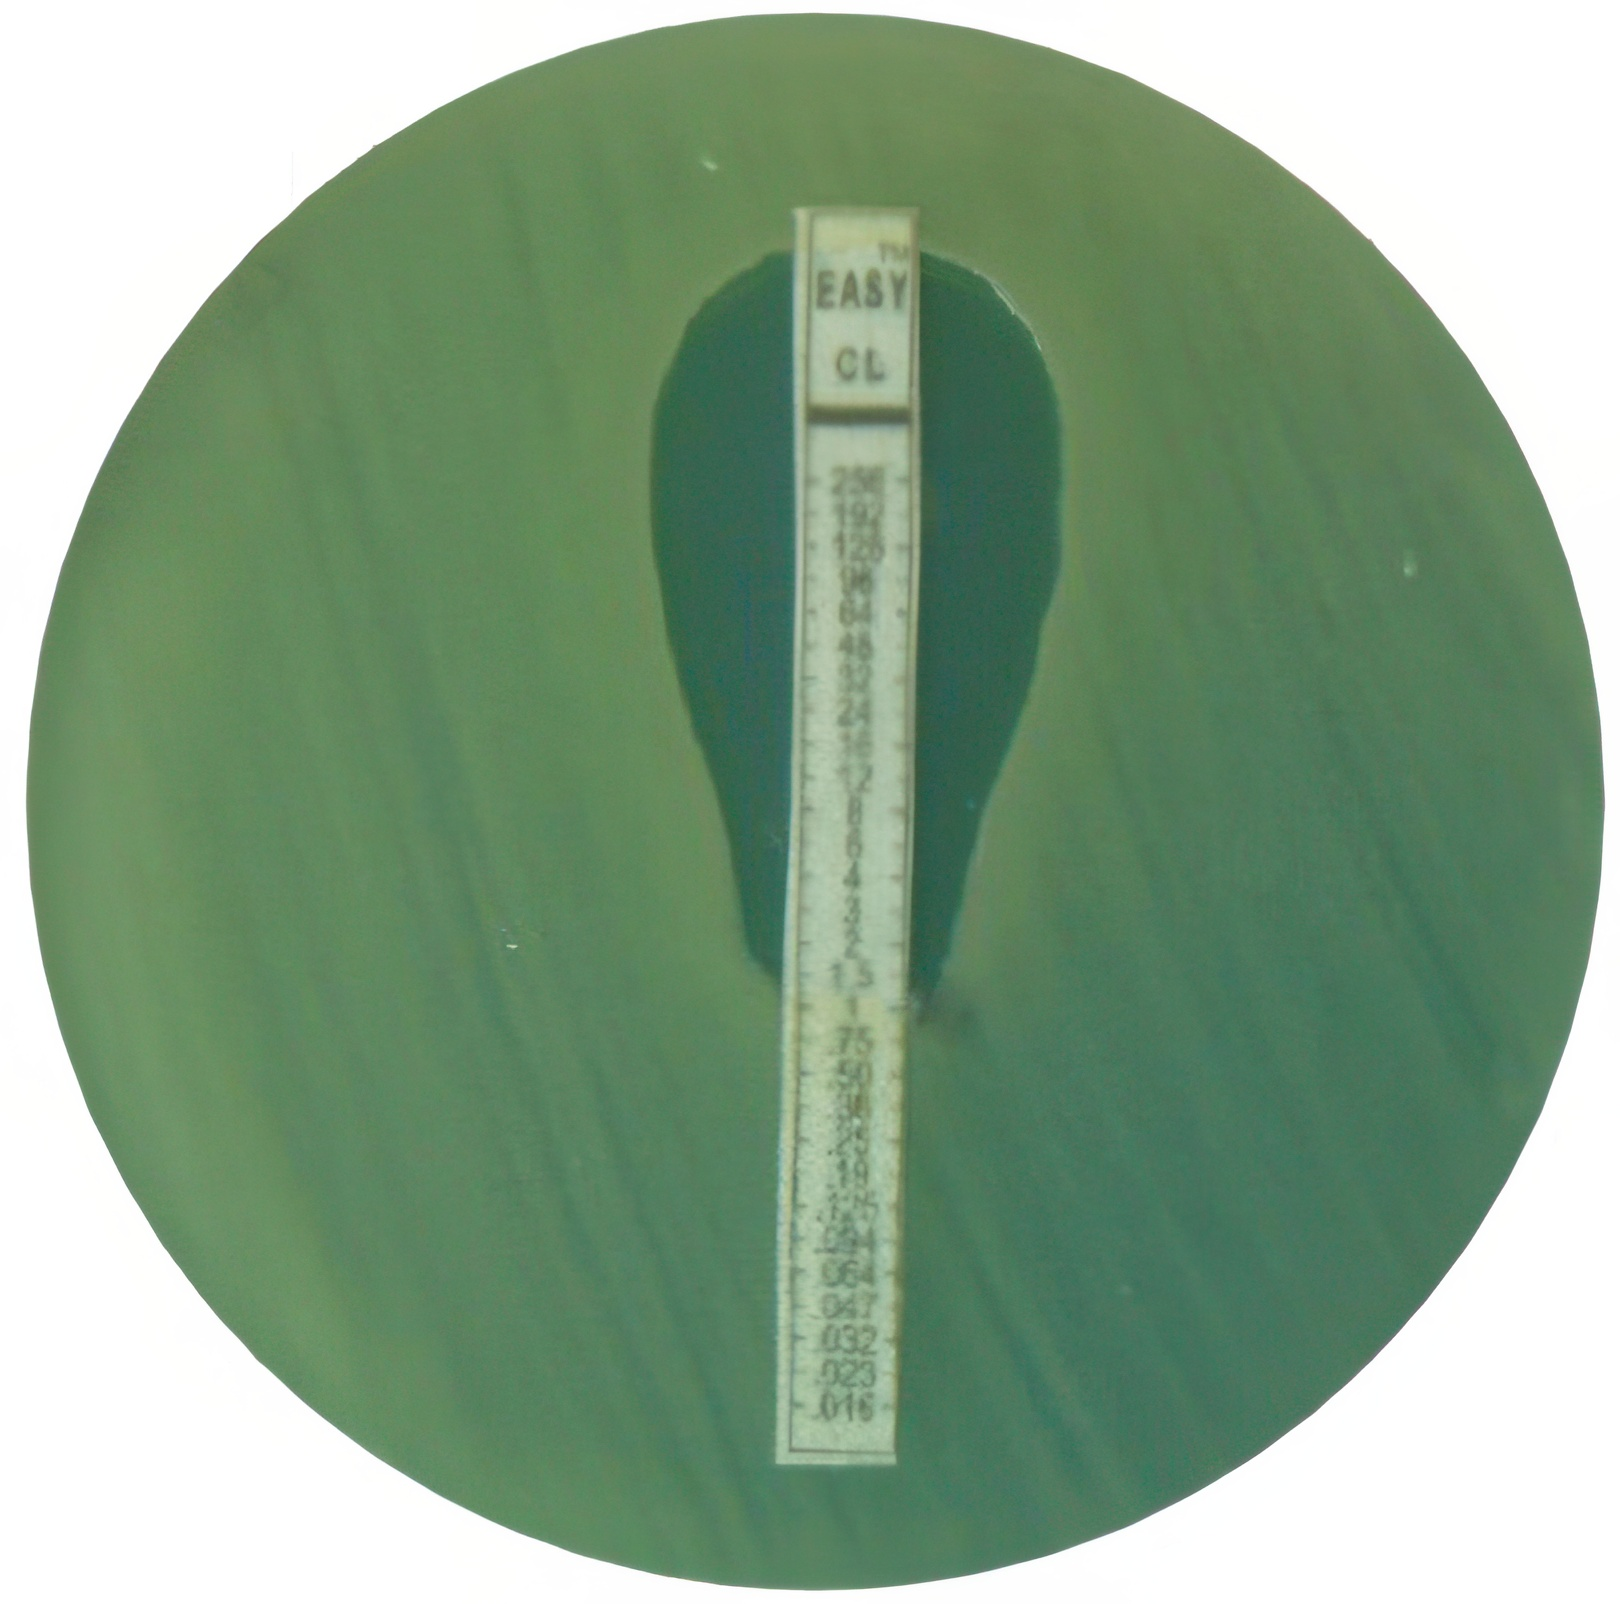line: (768, 203, 928, 1470)
zone: (651, 248, 1062, 980)
